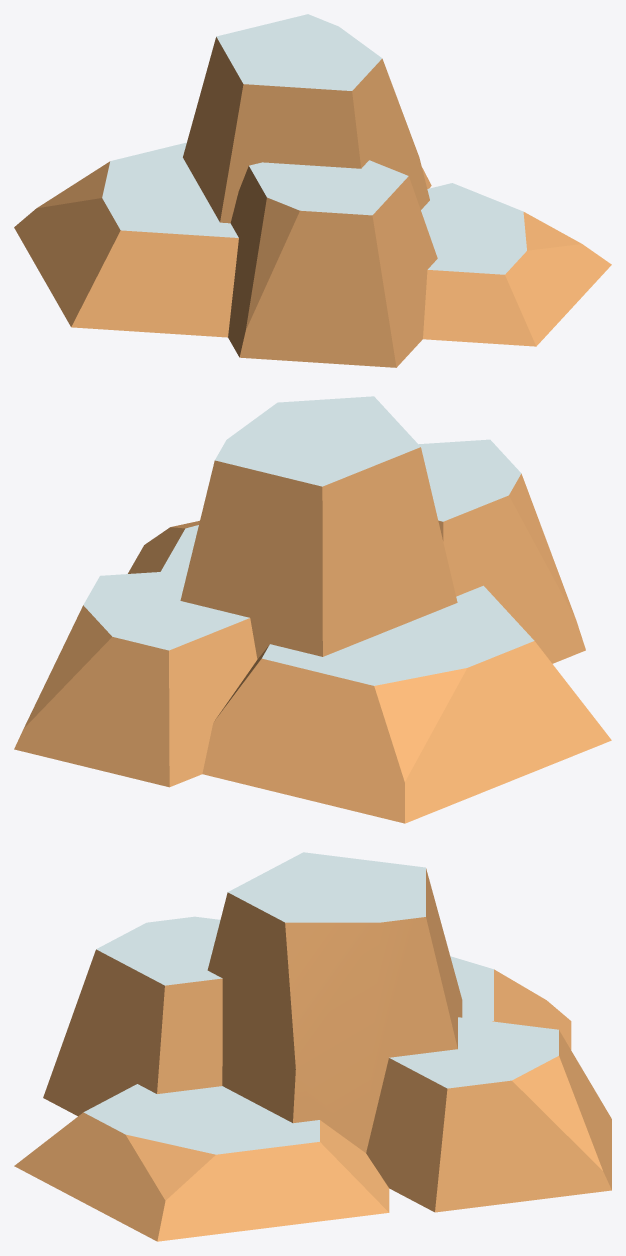
The model's file is snow_detail_dirtLarge.dae.
The picture shows the model from 3 angles, top to bottom: view 1: azimuth 30°, elevation 25°; view 2: azimuth 150°, elevation 25°; view 3: azimuth 270°, elevation 25°; orthographic projection. The views are drawn at different scales.
Visible parts, largest first — view 1: snow_detail_dirtLarge; view 2: snow_detail_dirtLarge; view 3: snow_detail_dirtLarge.
Boxes of the visible parts, x1,y1,x2,y2 form: snow_detail_dirtLarge: [14, 14, 611, 367]; snow_detail_dirtLarge: [14, 396, 611, 823]; snow_detail_dirtLarge: [14, 852, 611, 1241].
Size of the model in its own units: 1 by 0.4186 by 1.
